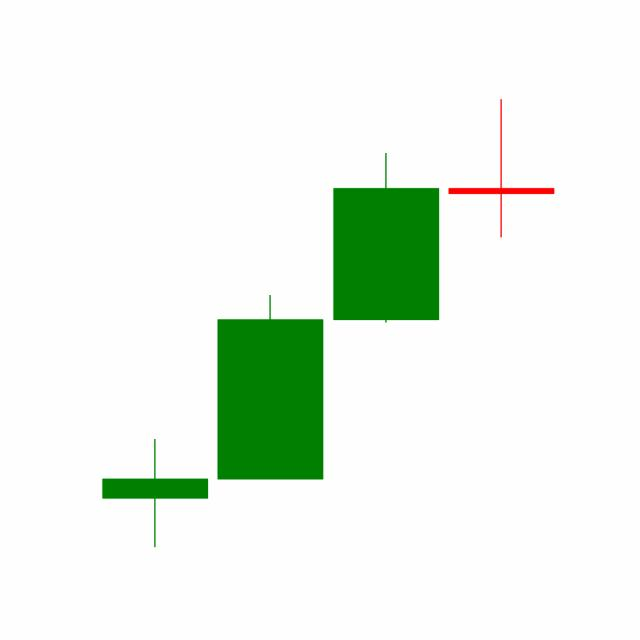Spinning Top: (443, 98, 559, 240)
